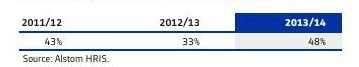table: (0, 0, 359, 67)
